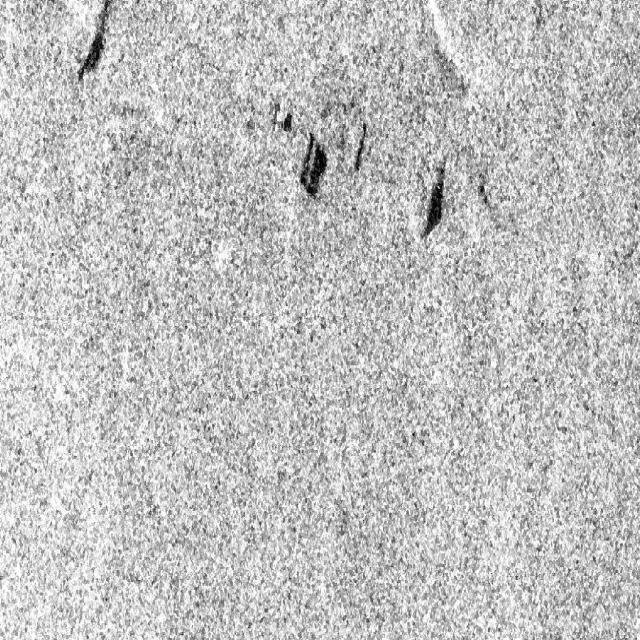oil-spill: (69, 3, 120, 84), (419, 160, 449, 244), (297, 132, 329, 205), (352, 119, 370, 175), (472, 173, 495, 214), (282, 106, 294, 137), (268, 98, 280, 128)
